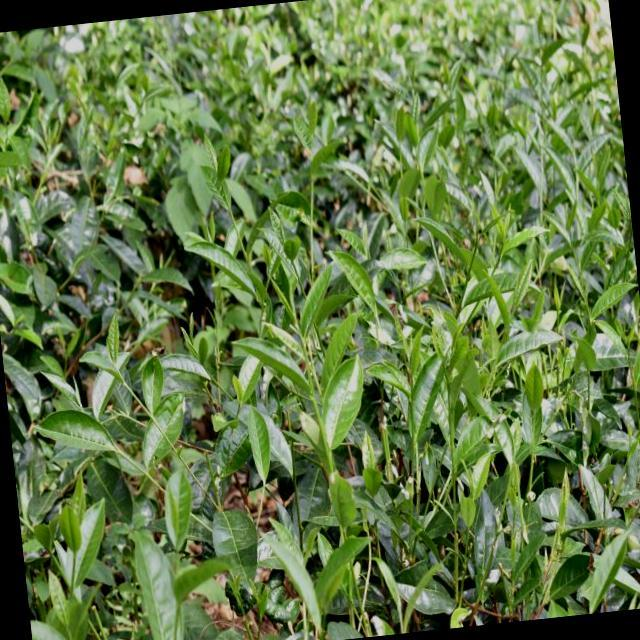Stem: (123, 381, 131, 390)
